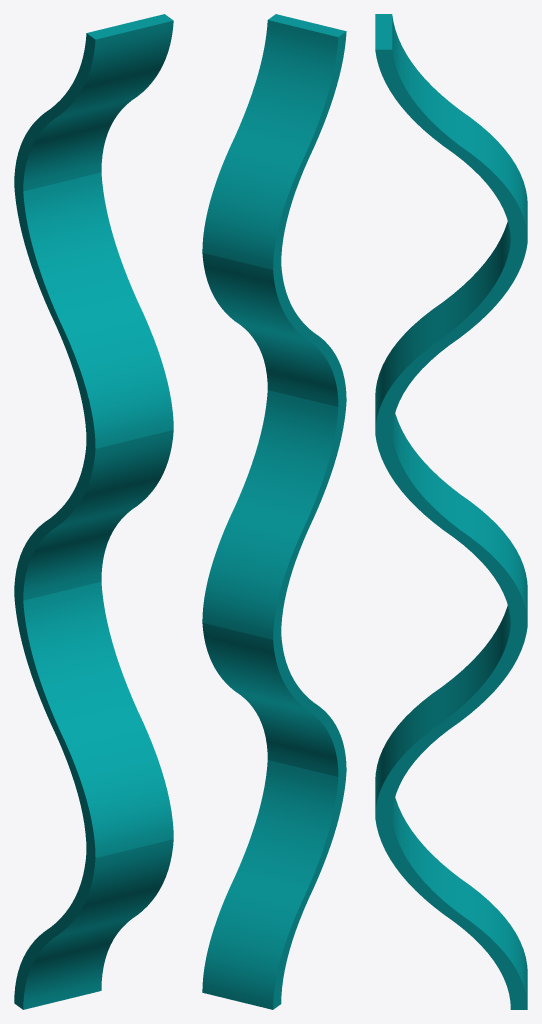
Rendered from seaweed_big.fbx.
The picture shows the model from 3 angles, left to right: view 1: azimuth 30°, elevation 25°; view 2: azimuth 150°, elevation 25°; view 3: azimuth 270°, elevation 25°; orthographic projection. The views are drawn at different scales.
Visible parts, largest first — view 1: mergedBlocks; view 2: mergedBlocks; view 3: mergedBlocks.
Part boxes in pixels (x1,y1,x2,y2): mergedBlocks: (14, 14, 173, 1009); mergedBlocks: (202, 14, 346, 1009); mergedBlocks: (375, 14, 527, 1009).
Bounding box in the file's own units: 2 × 25 × 3.6.
